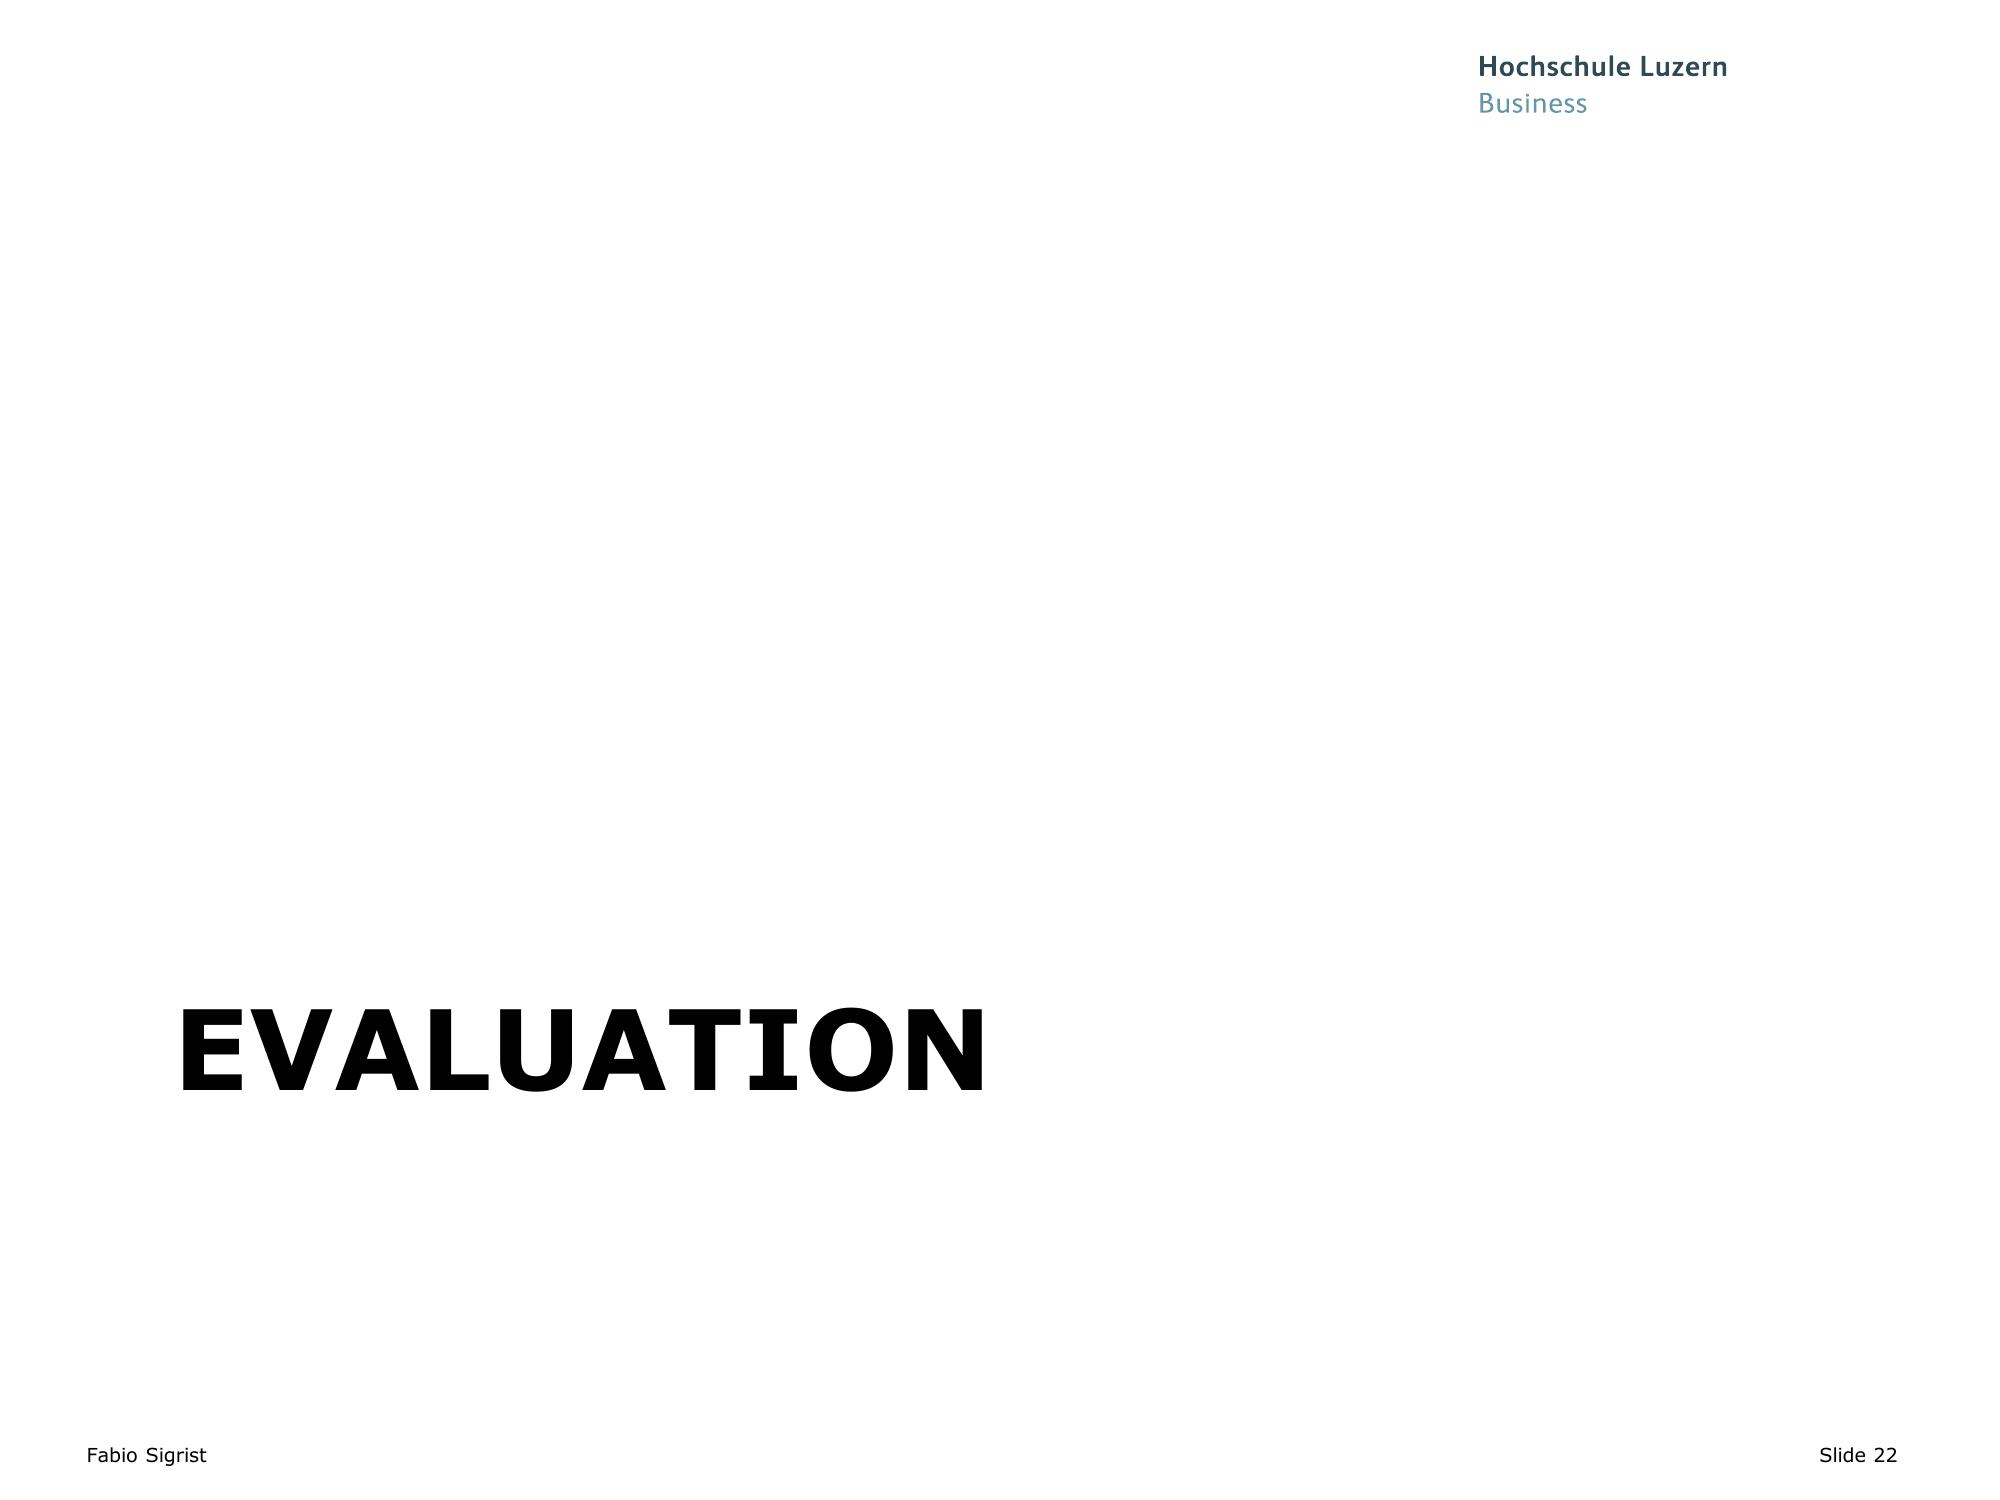Title: (132, 985, 1024, 1145)
